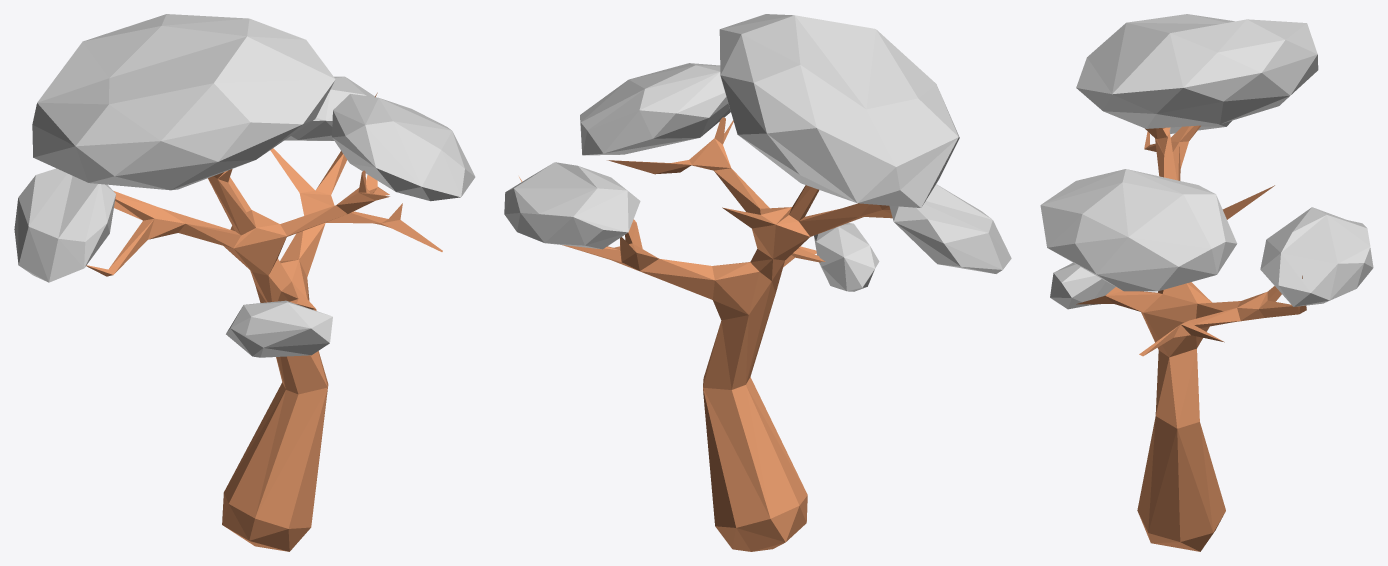
Rendered from Tree5.fbx.
3 views of the same model, side by side, from view 1: azimuth 30°, elevation 25°; view 2: azimuth 150°, elevation 25°; view 3: azimuth 270°, elevation 25° (orthographic). The views are drawn at different scales.
Visible parts, largest first — view 1: tree1; view 2: tree1; view 3: tree1.
Part boxes in pixels (<box>): tree1: <box>14,14,475,551</box>; tree1: <box>504,14,1011,551</box>; tree1: <box>1040,14,1373,551</box>.
Bounding box in the file's own units: 500 × 585 × 355.
